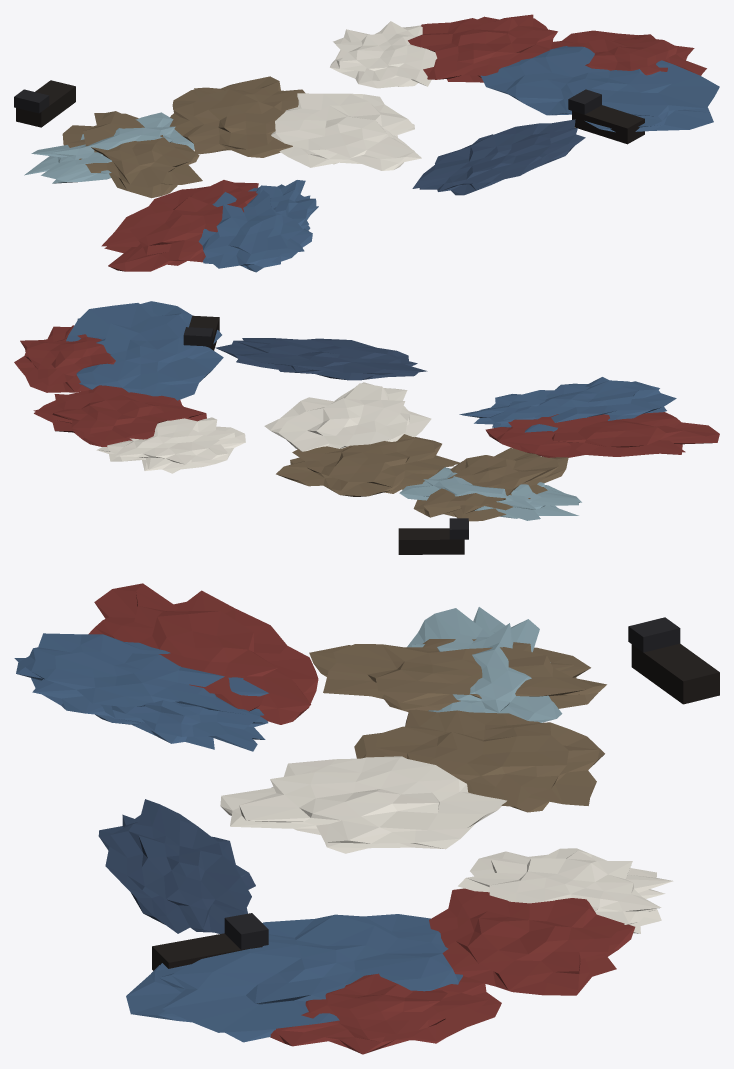
Rendered from clothes_spill.glb.
3 views of the same model, one above another, from view 1: azimuth 30°, elevation 25°; view 2: azimuth 150°, elevation 25°; view 3: azimuth 270°, elevation 25° (orthographic). The views are drawn at different scales.
Visible parts, largest first — view 1: clothes_spill; view 2: clothes_spill; view 3: clothes_spill.
Part boxes in pixels (x1,y1,x2,y2): clothes_spill: [14, 14, 719, 272]; clothes_spill: [14, 301, 719, 554]; clothes_spill: [14, 583, 719, 1054].
Size of the model in its own units: 2.63 by 0.1 by 1.66.
Materials: 1 (1 with a texture image).
